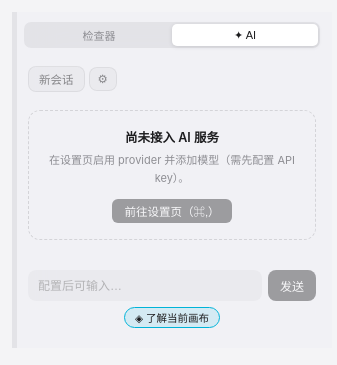
Test case: AiThread 新会话（issue #89） › 请求失败后开新会话：上一会话的错误横幅不遗留到新会话
The image size is (337, 365).
Step 1. Type "触发失败" into the field named "AI 对话输入" → [145, 286], box [28,270,262,301]
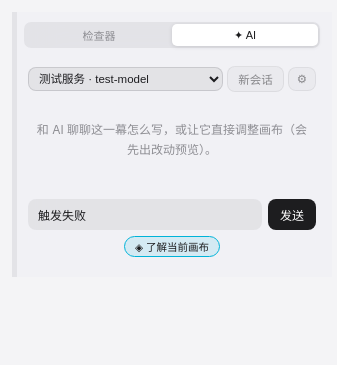
Step 2. Press Enter in the field named "AI 对话输入", box [28,199,262,230]
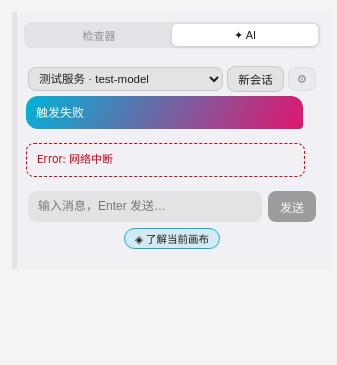
Check: the text "Error: 网络中断" is shown, box [26,143,305,177]
Step 3. Click the button "新会话" → [255, 79], box [227,66,284,92]
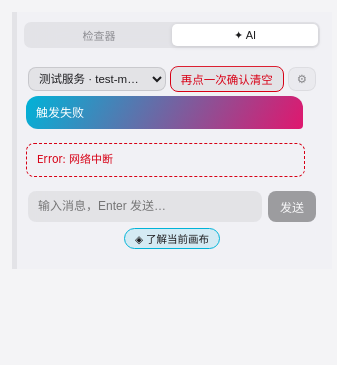
Step 4. Click the button "再点一次确认清空" → [227, 79], box [170,66,284,92]
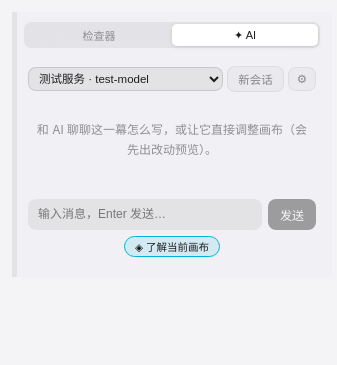
Check: the text "网络中断" is gone
Check: the text "和 AI 聊聊这一幕怎么写，或让它直接调整画布（会先出改动预览）。" is shown, box [36,120,308,161]
